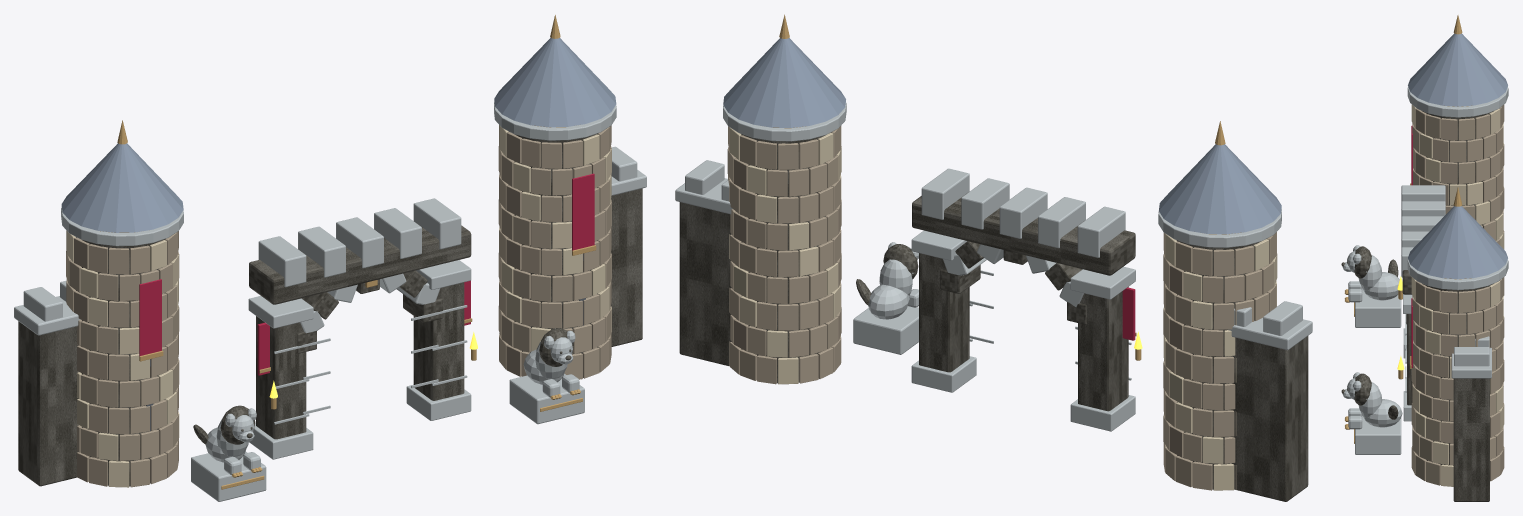
File: fortress_gate.glb
The picture shows the model from 3 angles, left to right: view 1: azimuth 30°, elevation 25°; view 2: azimuth 150°, elevation 25°; view 3: azimuth 270°, elevation 25°; orthographic projection. The views are drawn at different scales.
Visible parts, largest first — view 1: SceneryRuntime; view 2: SceneryRuntime; view 3: SceneryRuntime.
Part boxes in pixels (box(x1,y1,x2,y2)): SceneryRuntime: box(14, 15, 646, 501); SceneryRuntime: box(675, 14, 1312, 501); SceneryRuntime: box(1341, 15, 1508, 501).
Size of the model in its own units: 20.84 by 11.28 by 6.05.
9 materials, 1 textured.
